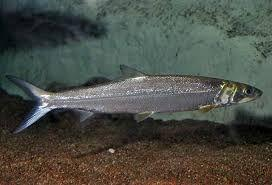Tenpounder: (5, 63, 263, 133)
